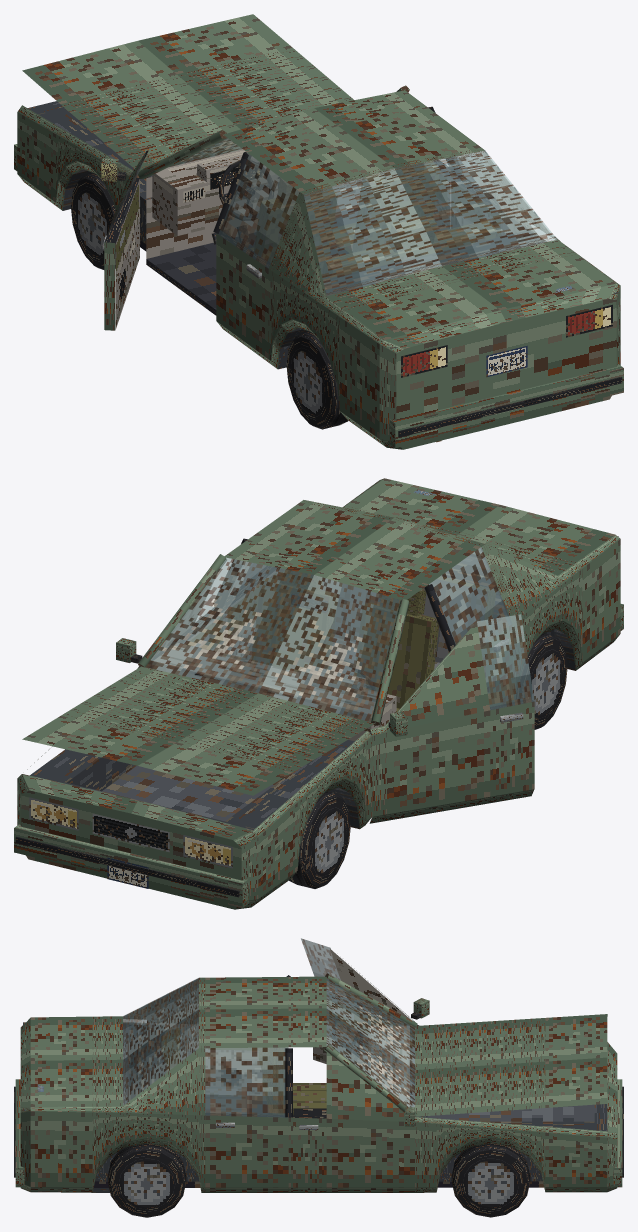
Rendered from VEH_Sedan_Damaged.glb.
3 renders of one model, top to bottom at view 1: azimuth 30°, elevation 25°; view 2: azimuth 150°, elevation 25°; view 3: azimuth 270°, elevation 25°, orthographic. The views are drawn at different scales.
Visible parts, largest first — view 1: Body, Hood, Trunk, Door_RL, Door_FL, Wheel_RL, Wheel_FL, Door_RR, SteeringWheel, Door_FR; view 2: Body, Door_FL, Hood, Trunk, Door_RL, Wheel_FL, Wheel_RL, Door_RR, Door_FR; view 3: Body, Hood, Door_FR, Door_RR, Trunk, Door_FL, Wheel_RR, Wheel_FR, Door_RL.
Part boxes in pixels (x1,y1,x2,y2): Body: (14,85,623,449); Hood: (22,14,354,171); Trunk: (327,240,615,339); Door_RL: (216,152,299,366); Door_FL: (101,151,148,330); Wheel_RL: (286,331,348,429); Wheel_FL: (71,173,141,269); Door_RR: (450,152,502,237); SteeringWheel: (219,160,273,220); Door_FR: (433,160,452,231); Body: (14,478,623,909); Door_FL: (369,614,534,823); Hood: (22,666,375,795); Trunk: (343,478,615,575); Door_RL: (429,547,511,706); Wheel_FL: (289,791,350,888); Wheel_RL: (516,633,567,729); Door_RR: (223,562,277,660); Door_FR: (116,575,225,668); Body: (14,973,623,1192); Hood: (415,1014,607,1116); Door_FR: (288,1052,427,1192); Door_RR: (205,1047,288,1192); Trunk: (30,1016,122,1106); Door_FL: (301,938,429,1091); Wheel_RR: (107,1143,186,1217); Wheel_FR: (451,1143,530,1217); Door_RL: (205,1047,287,1095).
Size of what is drawn, in the model's own units: 2.6 by 1.44 by 4.82.
3 materials, 3 textured.
